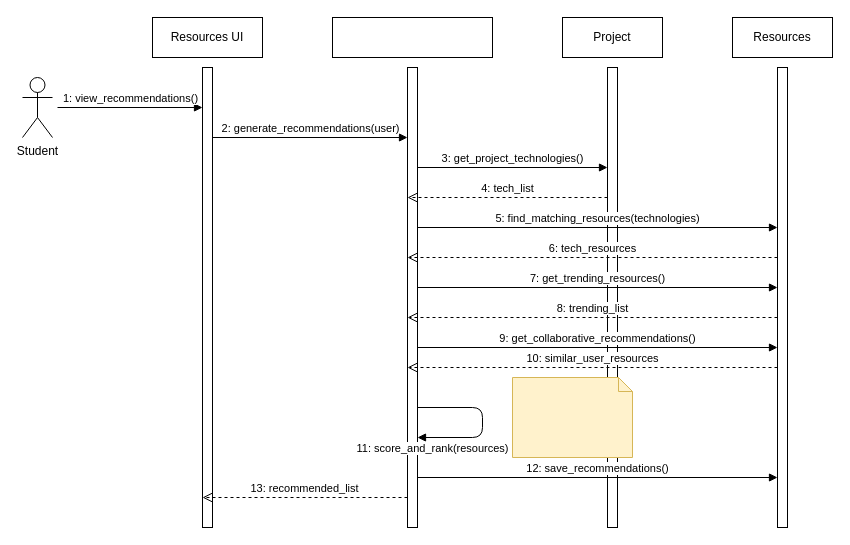
Some shapes in this 850 by 545 pixel diagram are drawn without their labels. Each missing label, with the centre of its shape:
ML-based scoring considers: - Tech overlap - Quality - Popularity: (572,417)
RecommendationEngine: (412,37)
